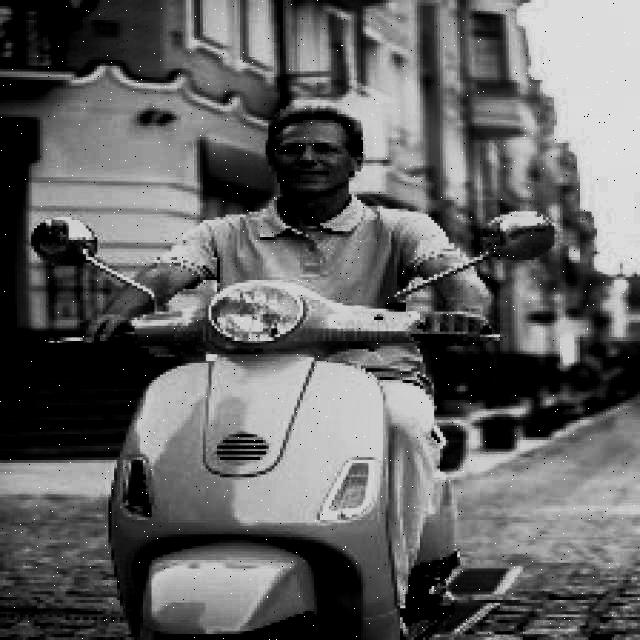Bike: (86, 293, 409, 640)
